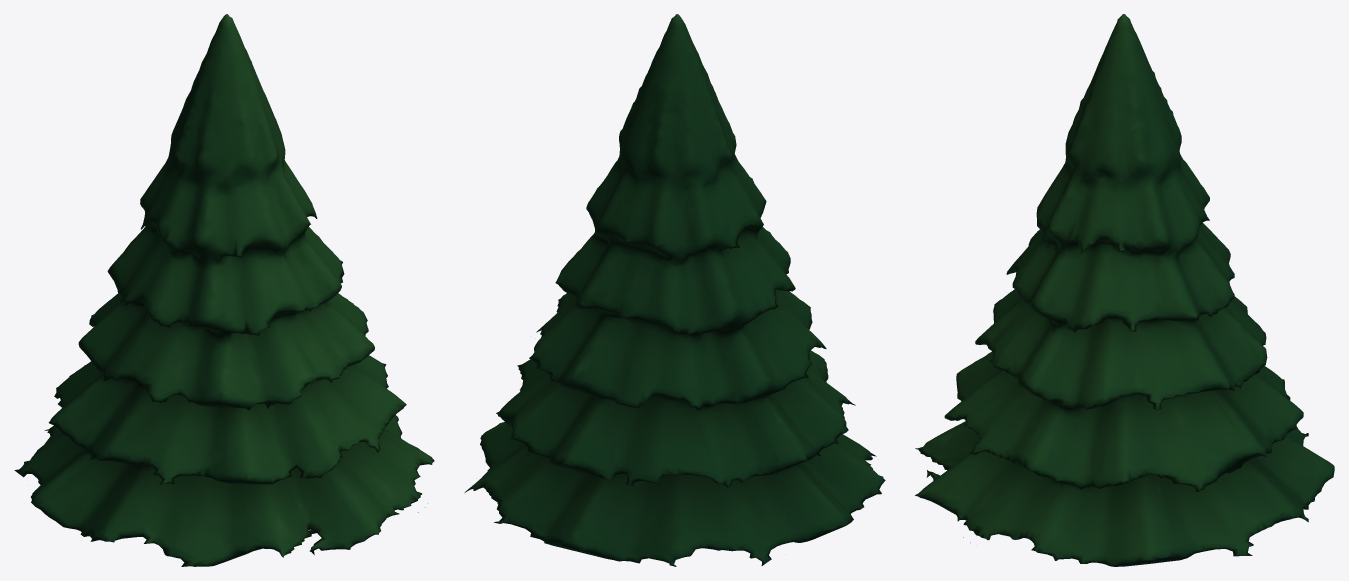
The model's file is tree_pine.glb.
3 renders of one model, left to right at view 1: azimuth 30°, elevation 25°; view 2: azimuth 150°, elevation 25°; view 3: azimuth 270°, elevation 25°, orthographic.
Visible parts, largest first — view 1: needles; view 2: needles; view 3: needles.
Boxes of the visible parts, x1,y1,x2,y2 form: needles: [14, 14, 434, 566]; needles: [464, 14, 885, 566]; needles: [915, 14, 1334, 566].
Size of the model in its own units: 4.78 by 6.57 by 4.78.
